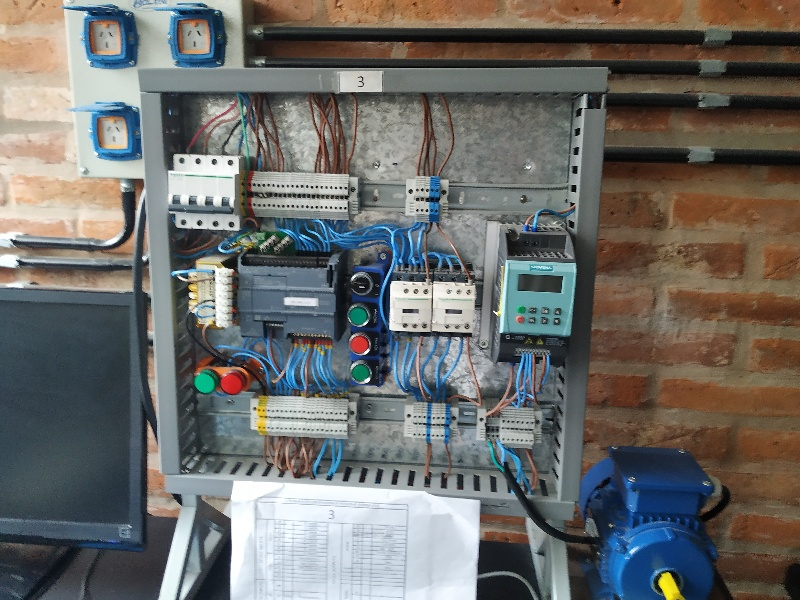Tablero 3: (153, 81, 582, 506)
